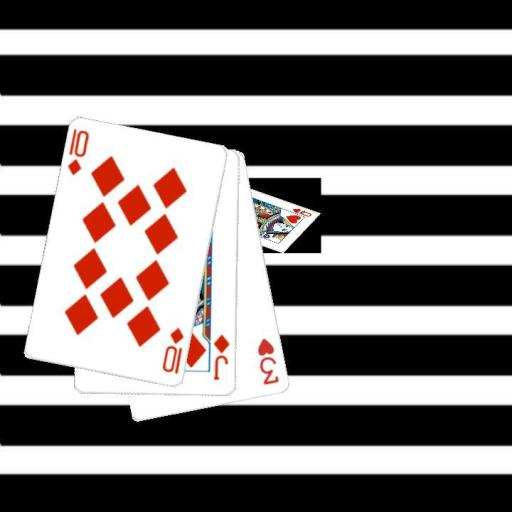10D: (64, 125, 91, 178), (159, 325, 186, 375)
3H: (254, 335, 281, 387)
JD: (211, 331, 231, 382)
